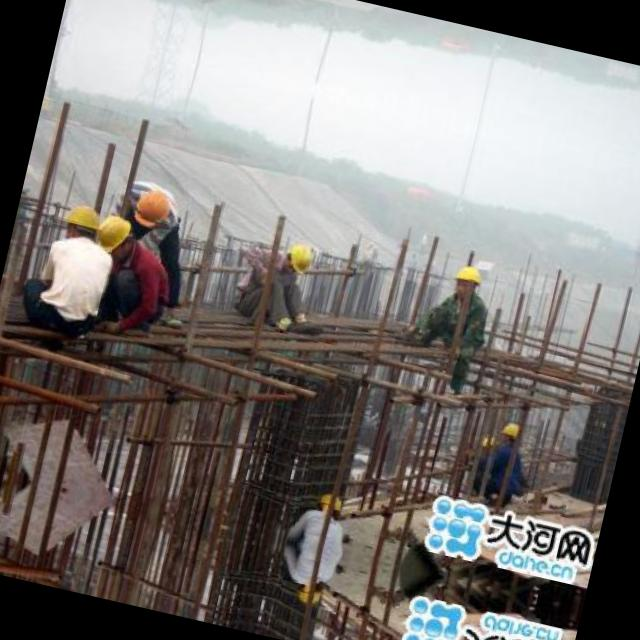helmet: (127, 180, 180, 233), (57, 195, 104, 246), (90, 210, 136, 256), (446, 257, 488, 302), (276, 236, 314, 278), (495, 413, 530, 448), (290, 575, 324, 608), (312, 486, 346, 518)
